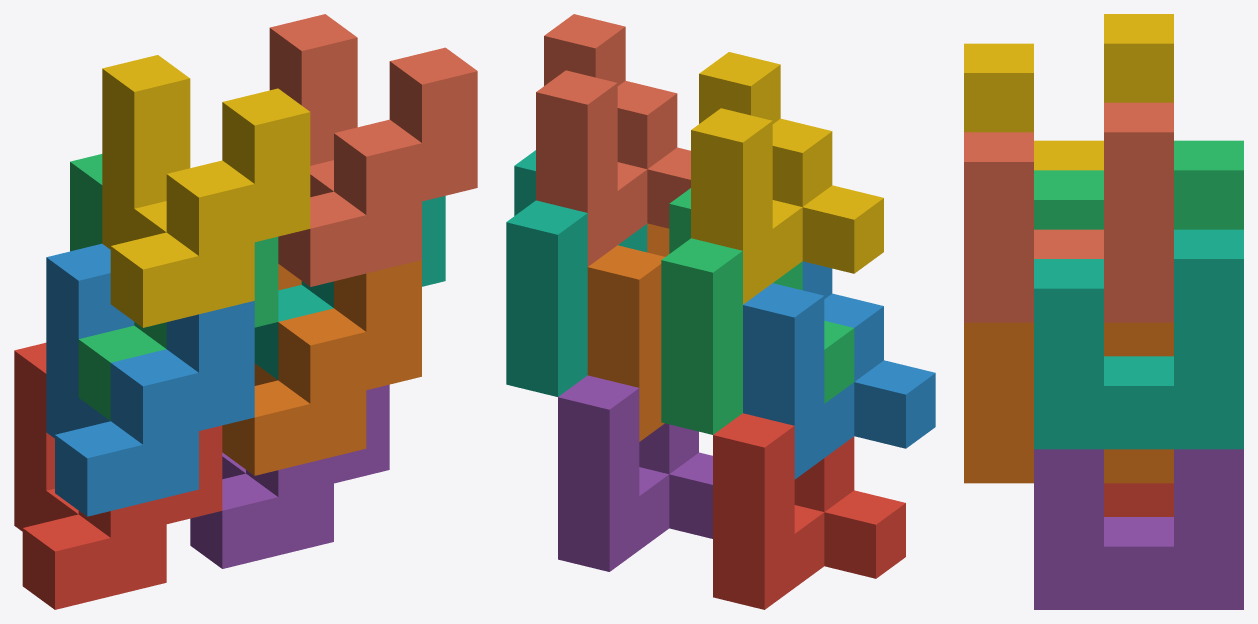
File: tiling.obj
3 renders of one model, left to right at view 1: azimuth 30°, elevation 25°; view 2: azimuth 150°, elevation 25°; view 3: azimuth 270°, elevation 25°, orthographic. The views are drawn at different scales.
Visible parts, largest first — view 1: copy_1_domain_4, copy_1_domain_8, copy_1_domain_2, copy_1_domain_6, copy_1_domain_1, copy_1_domain_5, copy_1_domain_3, copy_1_domain_7; view 2: copy_1_domain_4, copy_1_domain_1, copy_1_domain_8, copy_1_domain_2, copy_1_domain_5, copy_1_domain_3, copy_1_domain_7, copy_1_domain_6; view 3: copy_1_domain_7, copy_1_domain_8, copy_1_domain_5, copy_1_domain_6, copy_1_domain_4, copy_1_domain_3, copy_1_domain_1.
Part boxes in pixels (x1,y1,x2,y2): copy_1_domain_4: [102, 55, 310, 327]; copy_1_domain_8: [269, 14, 477, 286]; copy_1_domain_2: [46, 243, 254, 516]; copy_1_domain_6: [222, 260, 421, 475]; copy_1_domain_1: [14, 342, 222, 609]; copy_1_domain_5: [190, 384, 389, 568]; copy_1_domain_3: [70, 154, 278, 420]; copy_1_domain_7: [254, 196, 445, 379]; copy_1_domain_4: [691, 52, 883, 304]; copy_1_domain_1: [713, 413, 905, 609]; copy_1_domain_8: [536, 14, 690, 266]; copy_1_domain_2: [743, 261, 935, 479]; copy_1_domain_5: [558, 375, 712, 571]; copy_1_domain_3: [661, 188, 854, 434]; copy_1_domain_7: [506, 150, 647, 396]; copy_1_domain_6: [587, 223, 669, 441]; copy_1_domain_7: [1034, 229, 1243, 449]; copy_1_domain_8: [964, 102, 1173, 322]; copy_1_domain_5: [1034, 449, 1243, 609]; copy_1_domain_6: [964, 322, 1173, 483]; copy_1_domain_4: [964, 14, 1173, 170]; copy_1_domain_3: [1034, 140, 1243, 229]; copy_1_domain_1: [1104, 483, 1173, 516].
Bounding box in the file's own units: 7 × 8 × 4.
